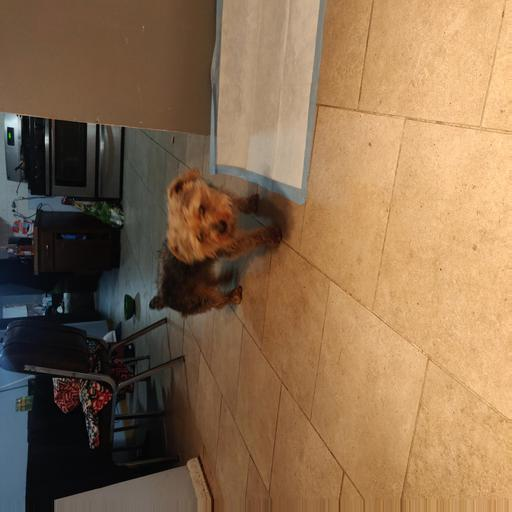dog: (135, 176, 273, 314)
